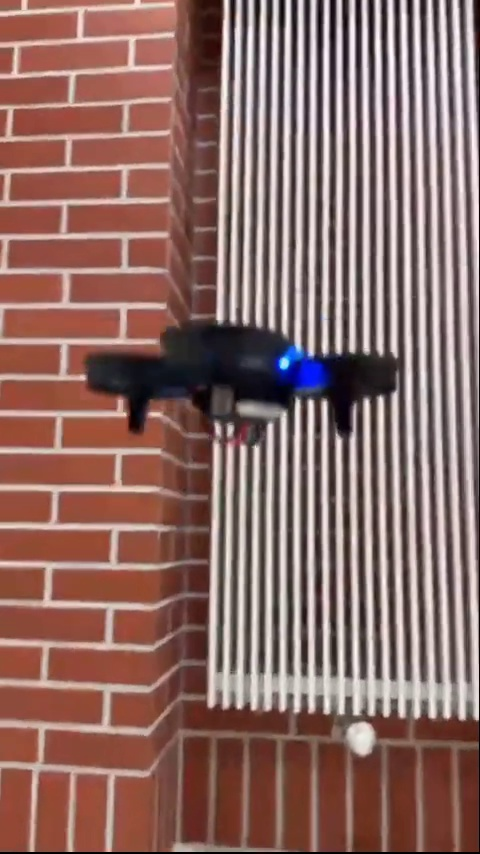drone: (87, 323, 402, 442)
